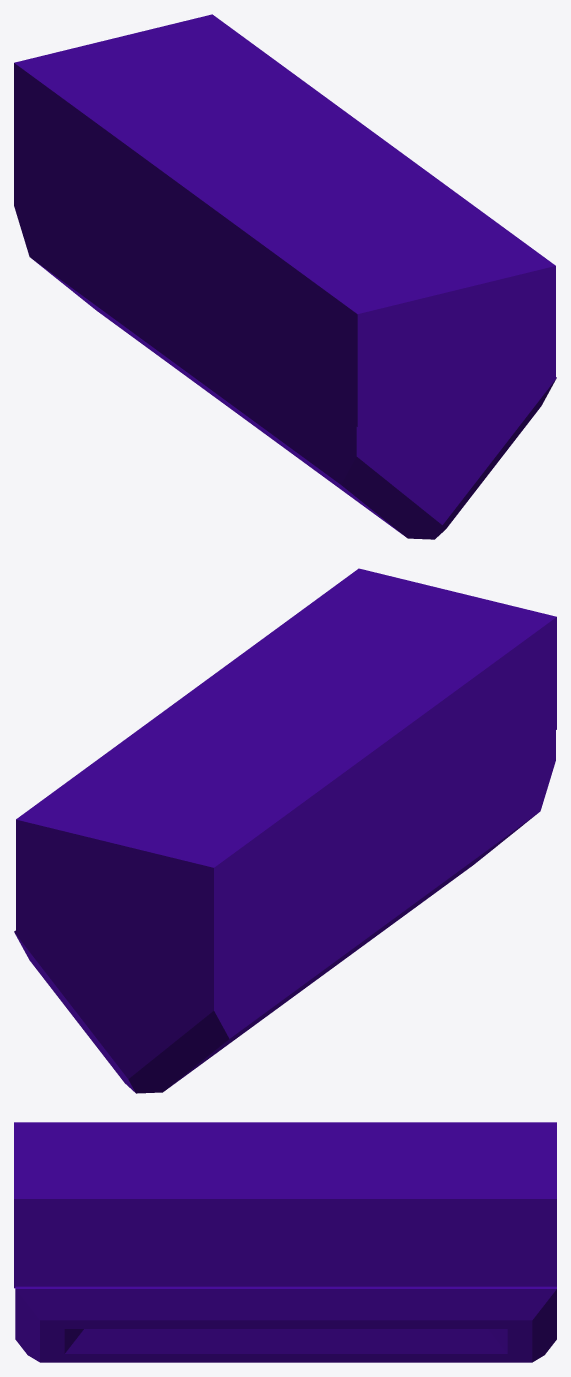
Rendered from laser.dae.
3 views of the same model, one above another, from view 1: azimuth 30°, elevation 25°; view 2: azimuth 150°, elevation 25°; view 3: azimuth 270°, elevation 25° (orthographic). The views are drawn at different scales.
Parts seen in each view (by area): view 1: laser; view 2: laser; view 3: laser.
Part boxes in pixels (x1,y1,x2,y2): laser: (14, 14, 556, 539); laser: (14, 568, 556, 1093); laser: (14, 1122, 556, 1362).
Bounding box in the file's own units: 0.0371 × 0.1103 × 0.0447.
